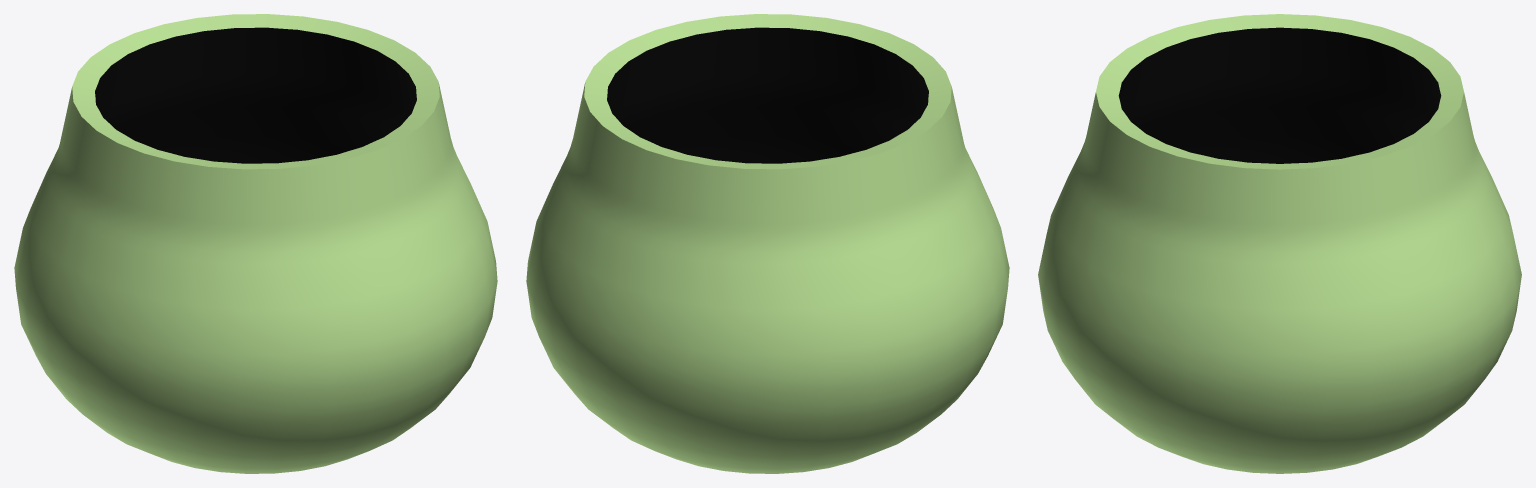
Rendered from hole.fbx.
3 views of the same model, side by side, from view 1: azimuth 30°, elevation 25°; view 2: azimuth 150°, elevation 25°; view 3: azimuth 270°, elevation 25° (orthographic).
Parts seen in each view (by area): view 1: Cylinder; view 2: Cylinder; view 3: Cylinder.
Boxes of the visible parts, x1,y1,x2,y2 form: Cylinder: (14, 14, 497, 473); Cylinder: (526, 14, 1009, 473); Cylinder: (1038, 14, 1521, 473).
Size of the model in its own units: 2.48 by 1.98 by 2.48.
